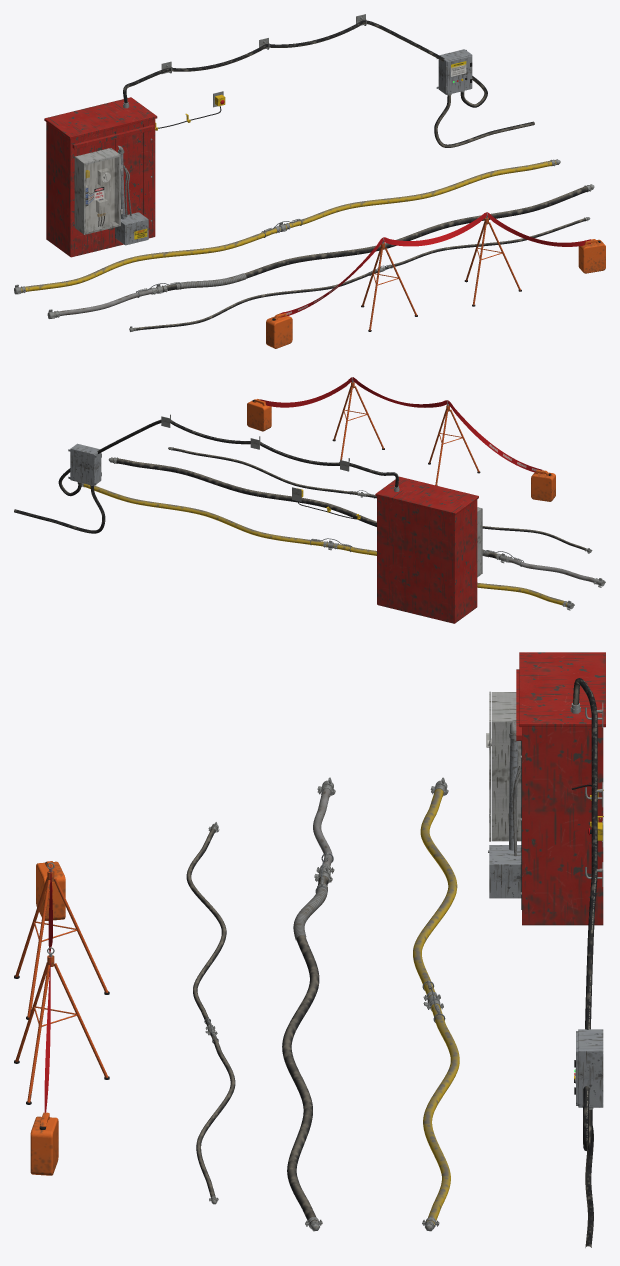
Rendered from SM_AEE_P00_Place_de_travail.glb.
The picture shows the model from 3 angles, top to bottom: view 1: azimuth 30°, elevation 25°; view 2: azimuth 150°, elevation 25°; view 3: azimuth 270°, elevation 25°; orthographic projection. The views are drawn at different scales.
Parts seen in each view (by area): view 1: SM_AEE_P03_03_ARMOIRE_DE_LA_CONSOLE_600_V_1, SM_AEE_P03_04_BOITIER_INOX_avec_contacteur_100_D140_1, SM_AEE_P03_05_PORTE_VITREE_du_boitier_1, SM_AEE_P01_02_BOYAU_D_AIR_HAUTE_PRESSION_2_po_1, SM_AEE_P03_01_CABLE_MINIER_600_V_1, SM_AEE_P01_01_BOYAU_D_AIR_BASSE_PRESSION_2_po_2, SM_AEE_P04_03_BANDEROLE_DANGER_1, SM_AEE_P01_01_BOYAU_D_AIR_BASSE_PRESSION_2_po_1, SM_AEE_P03_08_BOITE_DE_DEFAUT_A_LA_TERRE_1, SM_AEE_P03_07_TRANSFORMATEUR_600_V_120_V_1, SM_AEE_P02_01_BOYAU_D_EAU_1_po_1, SM_AEE_P04_02_BIDON_DE_PLASTIQUE_20_L_2 (+8 smaller); view 2: SM_AEE_P03_03_ARMOIRE_DE_LA_CONSOLE_600_V_1, SM_AEE_P01_02_BOYAU_D_AIR_HAUTE_PRESSION_2_po_1, SM_AEE_P04_03_BANDEROLE_DANGER_1, SM_AEE_P03_01_CABLE_MINIER_600_V_1, SM_AEE_P01_01_BOYAU_D_AIR_BASSE_PRESSION_2_po_2, SM_AEE_P03_08_BOITE_DE_DEFAUT_A_LA_TERRE_1, SM_AEE_P01_01_BOYAU_D_AIR_BASSE_PRESSION_2_po_1, SM_AEE_P04_02_BIDON_DE_PLASTIQUE_20_L_1, SM_AEE_P04_02_BIDON_DE_PLASTIQUE_20_L_2, SM_AEE_P02_01_BOYAU_D_EAU_1_po_2, SM_AEE_P04_01_TREPIED_DE_BALISAGE_1, SM_AEE_P04_01_TREPIED_DE_BALISAGE_2 (+4 smaller); view 3: SM_AEE_P03_03_ARMOIRE_DE_LA_CONSOLE_600_V_1, SM_AEE_P03_04_BOITIER_INOX_avec_contacteur_100_D140_1, SM_AEE_P01_02_BOYAU_D_AIR_HAUTE_PRESSION_2_po_1, SM_AEE_P03_01_CABLE_MINIER_600_V_1, SM_AEE_P01_01_BOYAU_D_AIR_BASSE_PRESSION_2_po_2, SM_AEE_P03_08_BOITE_DE_DEFAUT_A_LA_TERRE_1, SM_AEE_P01_01_BOYAU_D_AIR_BASSE_PRESSION_2_po_1, SM_AEE_P03_07_TRANSFORMATEUR_600_V_120_V_1, SM_AEE_P04_01_TREPIED_DE_BALISAGE_2, SM_AEE_P04_01_TREPIED_DE_BALISAGE_1, SM_AEE_P04_02_BIDON_DE_PLASTIQUE_20_L_2, SM_AEE_P04_02_BIDON_DE_PLASTIQUE_20_L_1 (+4 smaller).
Part boxes in pixels (box(x1,y1,x2,y2)): SM_AEE_P03_03_ARMOIRE_DE_LA_CONSOLE_600_V_1: box(44, 97, 157, 257); SM_AEE_P03_04_BOITIER_INOX_avec_contacteur_100_D140_1: box(74, 148, 119, 233); SM_AEE_P03_05_PORTE_VITREE_du_boitier_1: box(83, 154, 122, 234); SM_AEE_P01_02_BOYAU_D_AIR_HAUTE_PRESSION_2_po_1: box(162, 186, 591, 291); SM_AEE_P03_01_CABLE_MINIER_600_V_1: box(123, 20, 487, 107); SM_AEE_P01_01_BOYAU_D_AIR_BASSE_PRESSION_2_po_2: box(285, 160, 556, 229); SM_AEE_P04_03_BANDEROLE_DANGER_1: box(280, 212, 590, 317); SM_AEE_P01_01_BOYAU_D_AIR_BASSE_PRESSION_2_po_1: box(20, 227, 280, 292); SM_AEE_P03_08_BOITE_DE_DEFAUT_A_LA_TERRE_1: box(436, 49, 472, 95); SM_AEE_P03_07_TRANSFORMATEUR_600_V_120_V_1: box(115, 212, 148, 245); SM_AEE_P02_01_BOYAU_D_EAU_1_po_1: box(133, 270, 377, 330); SM_AEE_P04_02_BIDON_DE_PLASTIQUE_20_L_2: box(578, 239, 605, 273); SM_AEE_P03_03_ARMOIRE_DE_LA_CONSOLE_600_V_1: box(375, 476, 478, 623); SM_AEE_P01_02_BOYAU_D_AIR_HAUTE_PRESSION_2_po_1: box(113, 458, 501, 559); SM_AEE_P04_03_BANDEROLE_DANGER_1: box(260, 377, 542, 473); SM_AEE_P03_01_CABLE_MINIER_600_V_1: box(58, 419, 398, 496); SM_AEE_P01_01_BOYAU_D_AIR_BASSE_PRESSION_2_po_2: box(83, 483, 327, 547); SM_AEE_P03_08_BOITE_DE_DEFAUT_A_LA_TERRE_1: box(68, 443, 101, 485); SM_AEE_P01_01_BOYAU_D_AIR_BASSE_PRESSION_2_po_1: box(333, 543, 567, 606); SM_AEE_P04_02_BIDON_DE_PLASTIQUE_20_L_1: box(531, 469, 555, 501); SM_AEE_P04_02_BIDON_DE_PLASTIQUE_20_L_2: box(247, 399, 271, 431); SM_AEE_P02_01_BOYAU_D_EAU_1_po_2: box(170, 448, 360, 495); SM_AEE_P04_01_TREPIED_DE_BALISAGE_1: box(428, 401, 480, 485); SM_AEE_P04_01_TREPIED_DE_BALISAGE_2: box(332, 377, 384, 462); SM_AEE_P03_03_ARMOIRE_DE_LA_CONSOLE_600_V_1: box(516, 652, 605, 925); SM_AEE_P03_04_BOITIER_INOX_avec_contacteur_100_D140_1: box(491, 692, 521, 841); SM_AEE_P01_02_BOYAU_D_AIR_HAUTE_PRESSION_2_po_1: box(282, 876, 328, 1225); SM_AEE_P03_01_CABLE_MINIER_600_V_1: box(573, 678, 597, 1150); SM_AEE_P01_01_BOYAU_D_AIR_BASSE_PRESSION_2_po_2: box(423, 1003, 459, 1224); SM_AEE_P03_08_BOITE_DE_DEFAUT_A_LA_TERRE_1: box(574, 1029, 603, 1109); SM_AEE_P01_01_BOYAU_D_AIR_BASSE_PRESSION_2_po_1: box(413, 788, 457, 997); SM_AEE_P03_07_TRANSFORMATEUR_600_V_120_V_1: box(488, 845, 521, 898); SM_AEE_P04_01_TREPIED_DE_BALISAGE_2: box(14, 947, 109, 1104); SM_AEE_P04_01_TREPIED_DE_BALISAGE_1: box(14, 862, 109, 1019); SM_AEE_P04_02_BIDON_DE_PLASTIQUE_20_L_2: box(30, 1112, 58, 1175); SM_AEE_P04_02_BIDON_DE_PLASTIQUE_20_L_1: box(36, 861, 65, 920).
Bounding box in the file's own units: 8.68 × 2.22 × 4.71.
31 materials, 23 textured.
